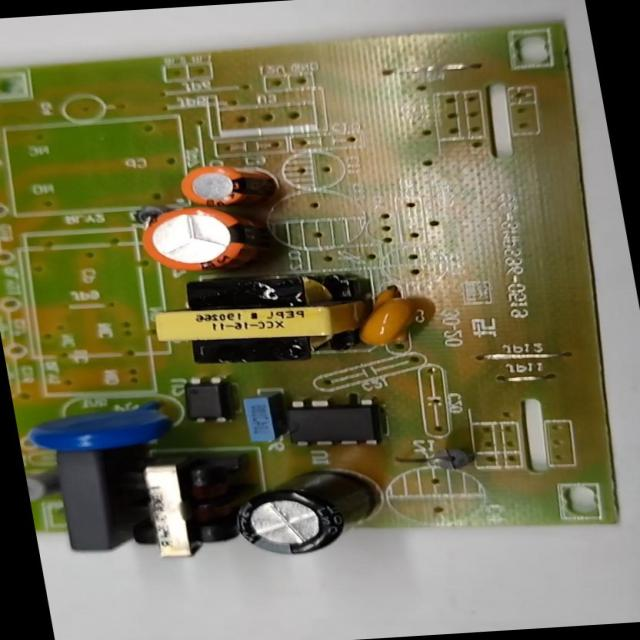Cap1: (138, 203, 252, 272)
Cap2: (178, 164, 276, 208)
Cap3: (226, 468, 378, 560)
MOSFET: (285, 396, 383, 449)
Mov: (23, 396, 174, 454)
Resistor: (26, 470, 56, 500)
Transformer: (148, 272, 370, 368), (120, 459, 236, 557)
